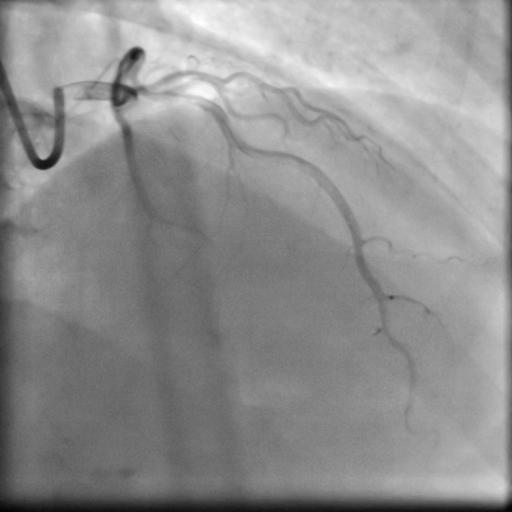Stenosis: (153, 85, 207, 108)
